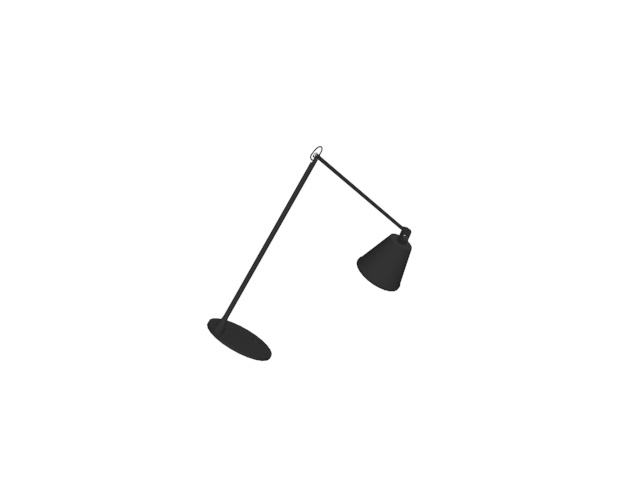desk_lamp: (201, 145, 416, 368)
